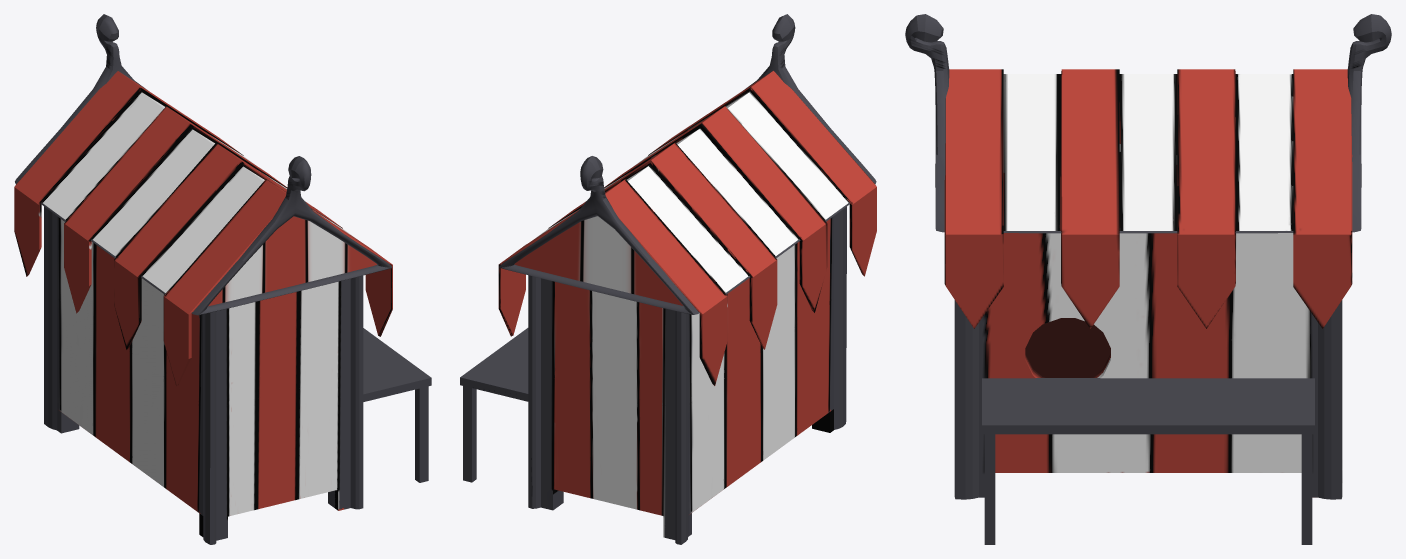
File: loket.fbx
3 renders of one model, left to right at view 1: azimuth 30°, elevation 25°; view 2: azimuth 150°, elevation 25°; view 3: azimuth 270°, elevation 25°, orthographic. The views are drawn at different scales.
Parts seen in each view (by area): view 1: wall; view 2: wall; view 3: wall.
Boxes of the visible parts, x1,y1,x2,y2 form: wall: [14, 14, 431, 544]; wall: [460, 14, 876, 544]; wall: [905, 14, 1391, 544].
Bounding box in the file's own units: 288 × 406 × 404.
Materials: 2 (2 with a texture image).
